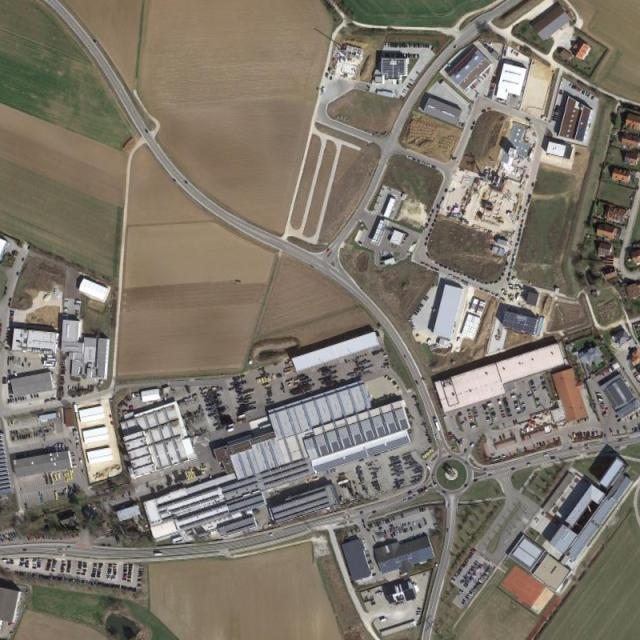vehicle: (154, 552, 164, 556)
